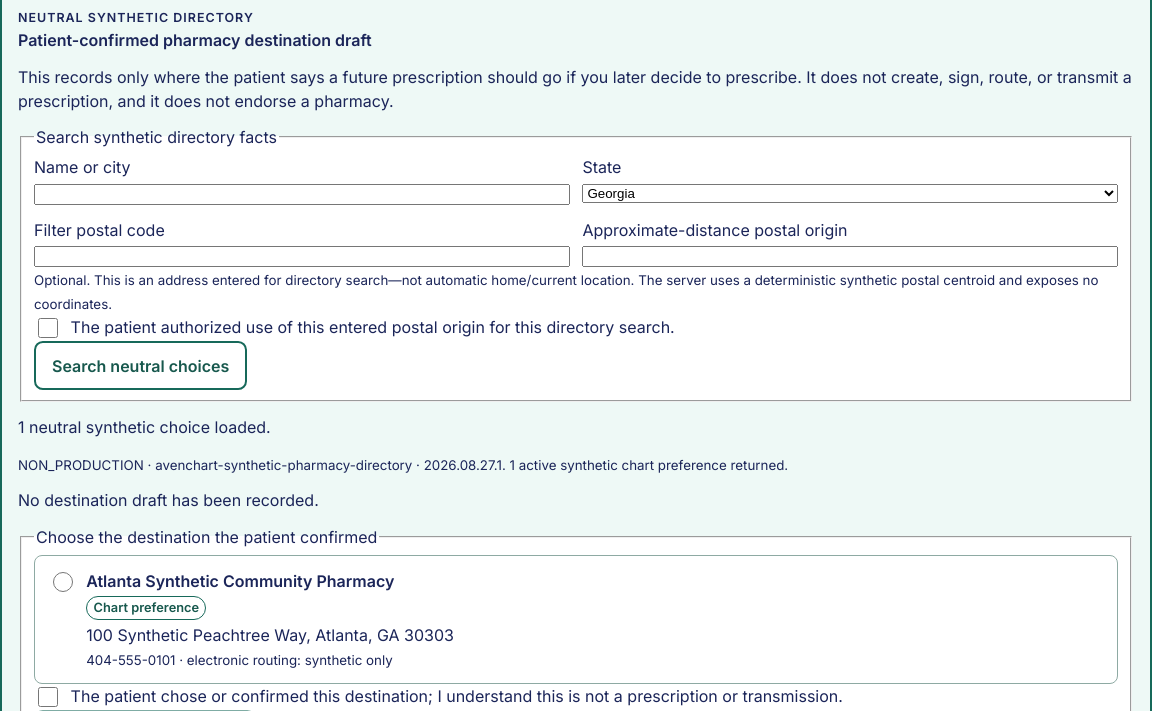
Test: TelehealthPharmacyChoicePanel › moves focus to a recording failure while preserving the retry identity
Expected: the text "Chart preference" is shown, [86,596,206,620]
Click the radio button labelled "Atlanta Synthetic Community Pharmacy".
click(63, 582)  # box [53,572,73,592]
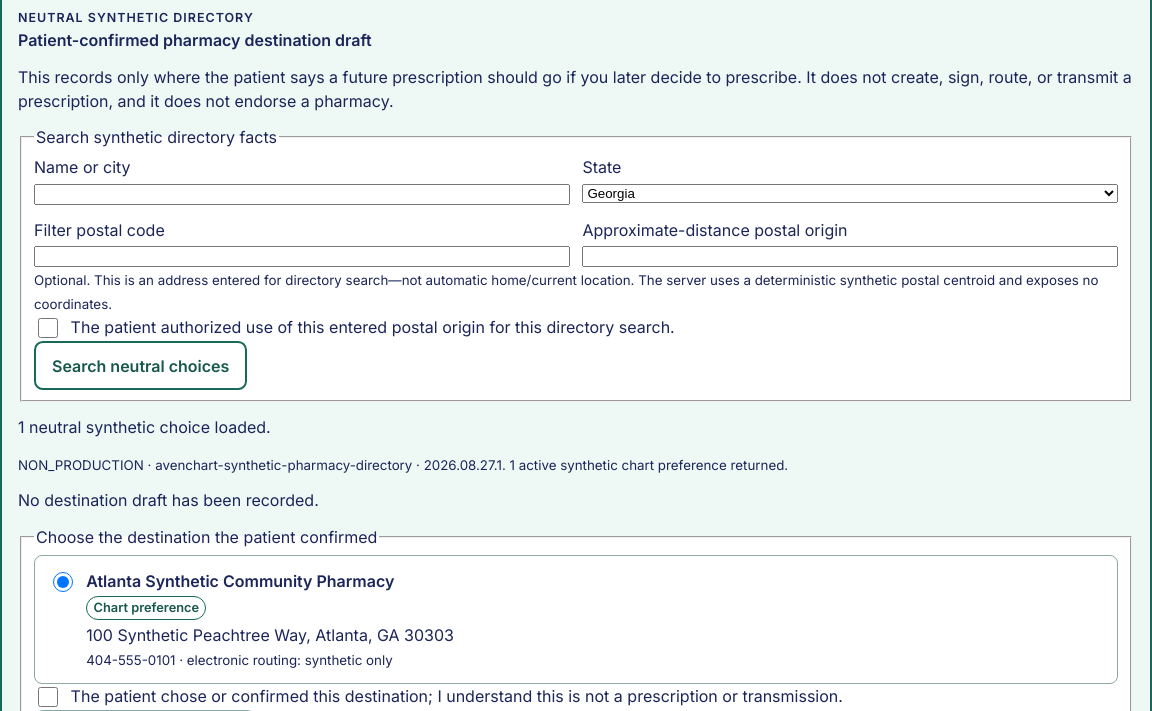
Click the checkbox labelled "patient chose or confirmed this destination".
click(48, 697)  # box [38,687,58,707]
(page scrolled)
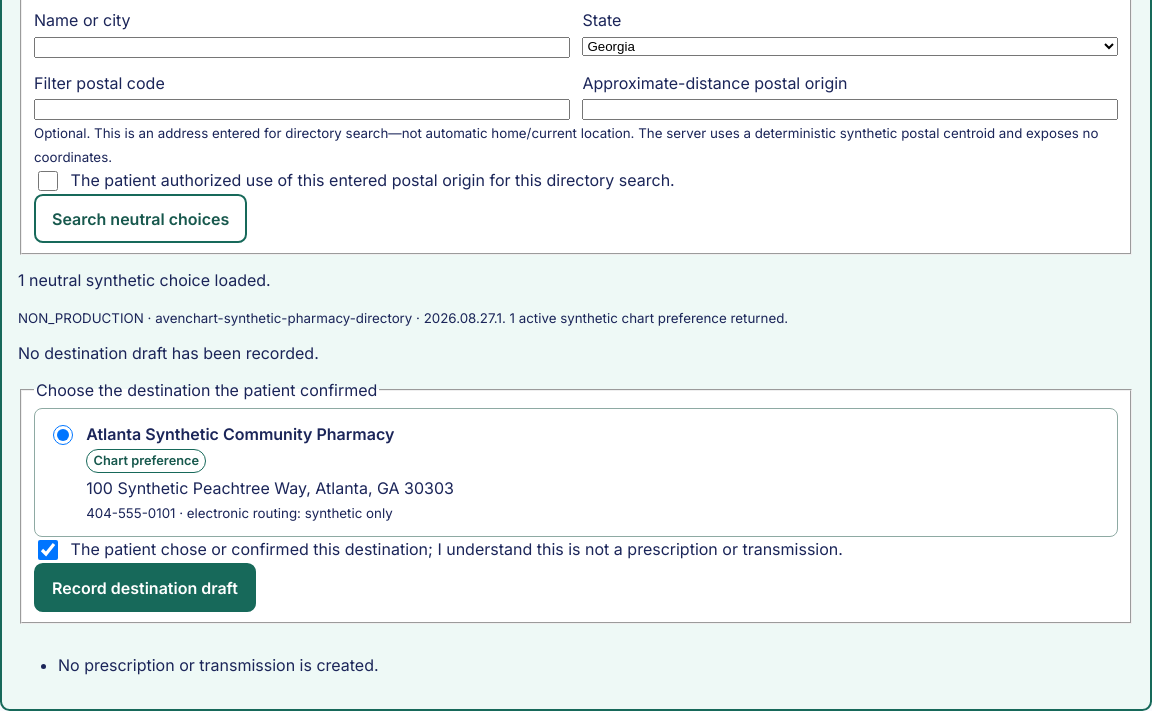
Click the button "Record destination draft".
click(145, 588)  # box [34,563,256,612]
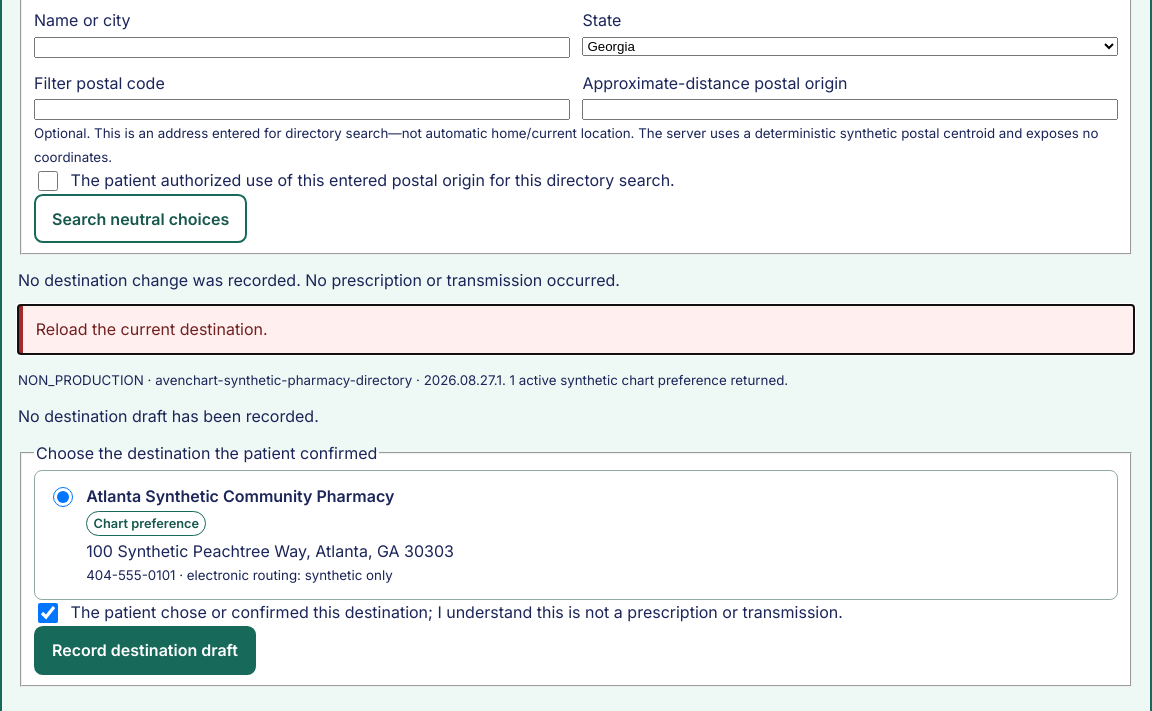
Expected: the message "Reload the current destination." is shown, [18,305,1134,354]
